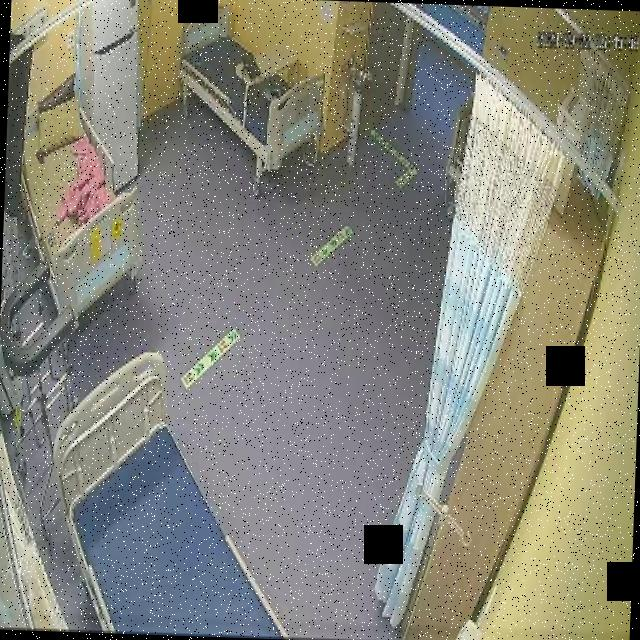bed: (43, 346, 293, 639), (14, 90, 148, 320), (176, 3, 328, 171)
walker: (0, 256, 79, 535)
